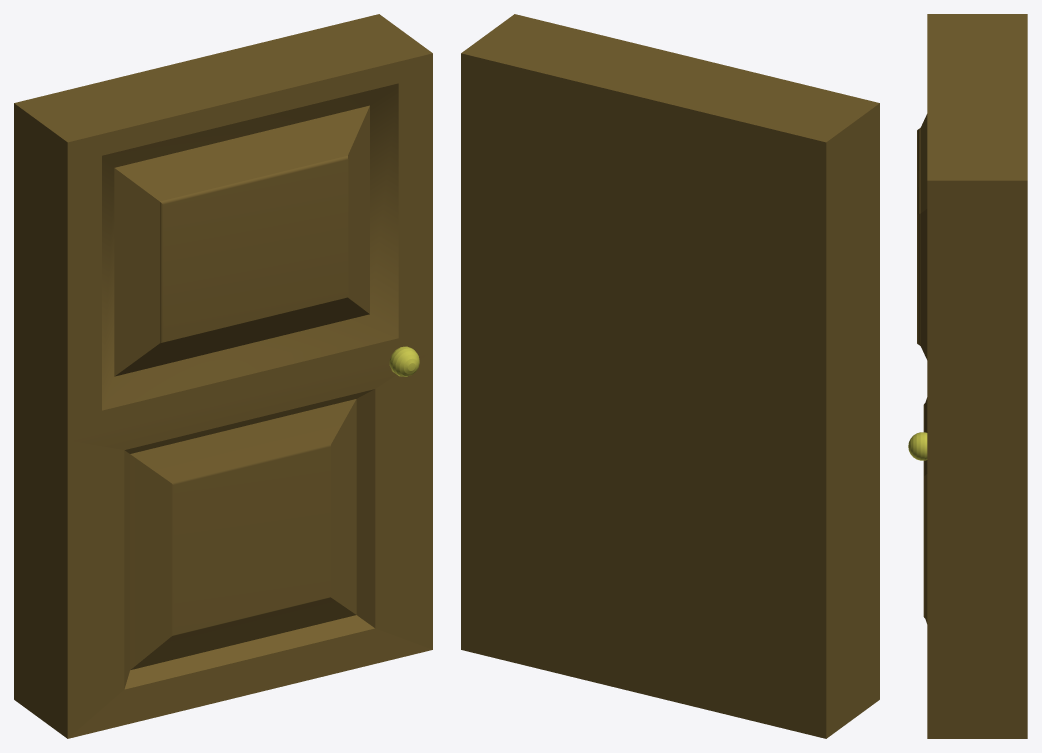
File: door_color.fbx
3 renders of one model, left to right at view 1: azimuth 30°, elevation 25°; view 2: azimuth 150°, elevation 25°; view 3: azimuth 270°, elevation 25°, orthographic. The views are drawn at different scales.
Parts seen in each view (by area): view 1: polySurface2; view 2: polySurface2; view 3: polySurface2.
Part boxes in pixels (left/top/right/bottom): polySurface2: left=14, top=14, right=432, bottom=738; polySurface2: left=461, top=14, right=879, bottom=738; polySurface2: left=908, top=14, right=1027, bottom=738.
Bounding box in the file's own units: 4.01 × 6.25 × 1.21.
